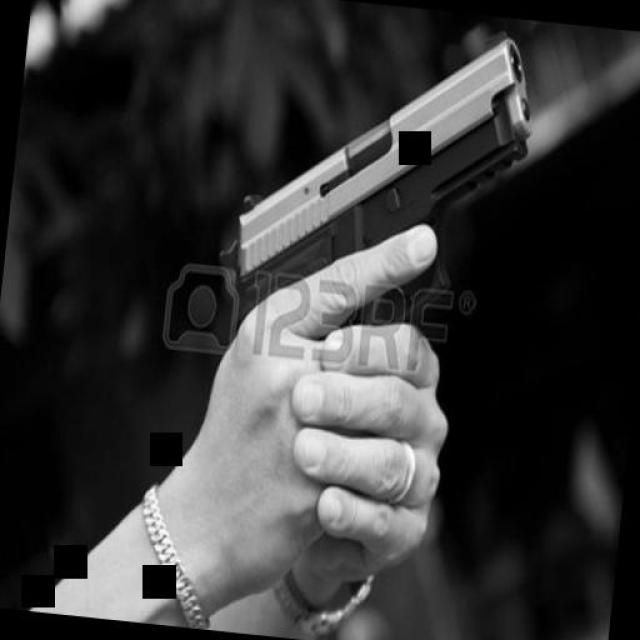gun: (218, 4, 552, 431)
